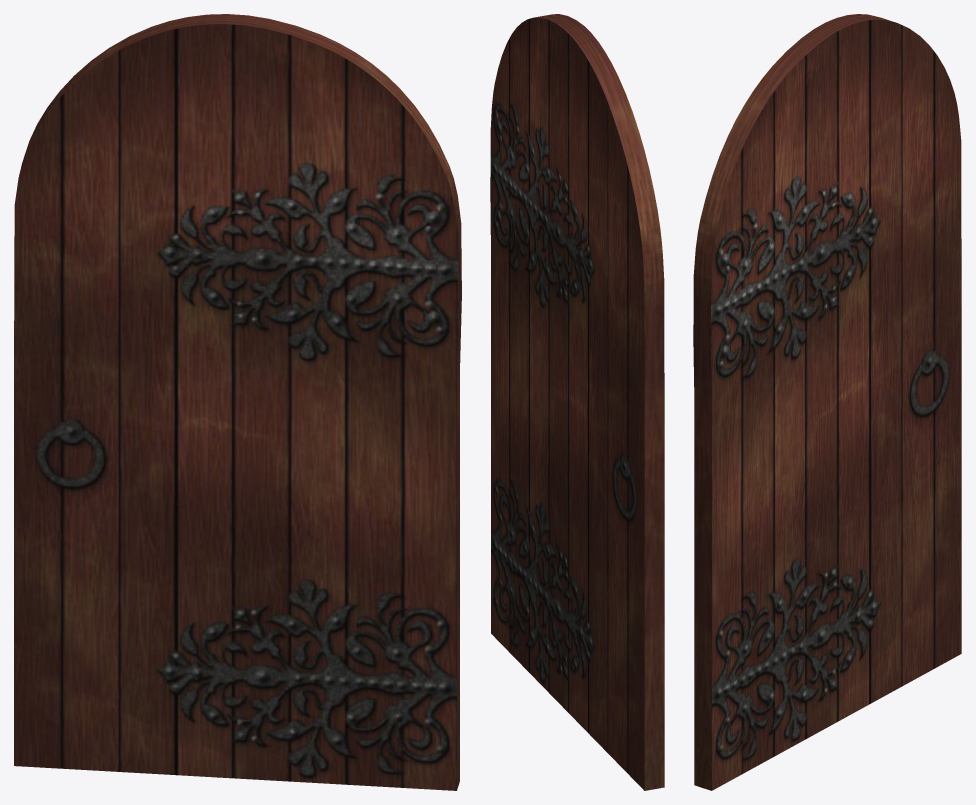
The model's file is door 10.obj.
3 views of the same model, side by side, from view 1: azimuth 30°, elevation 25°; view 2: azimuth 150°, elevation 25°; view 3: azimuth 270°, elevation 25° (orthographic). The views are drawn at different scales.
Visible parts, largest first — view 1: door_10:Mesh; view 2: door_10:Mesh; view 3: door_10:Mesh.
Part boxes in pixels (x1=…): door_10:Mesh: x1=14, y1=14, x2=461, y2=790; door_10:Mesh: x1=490, y1=14, x2=664, y2=790; door_10:Mesh: x1=693, y1=14, x2=961, y2=790.
Size of the model in its own units: 53.33 by 120 by 42.17.
1 material, 1 textured.
